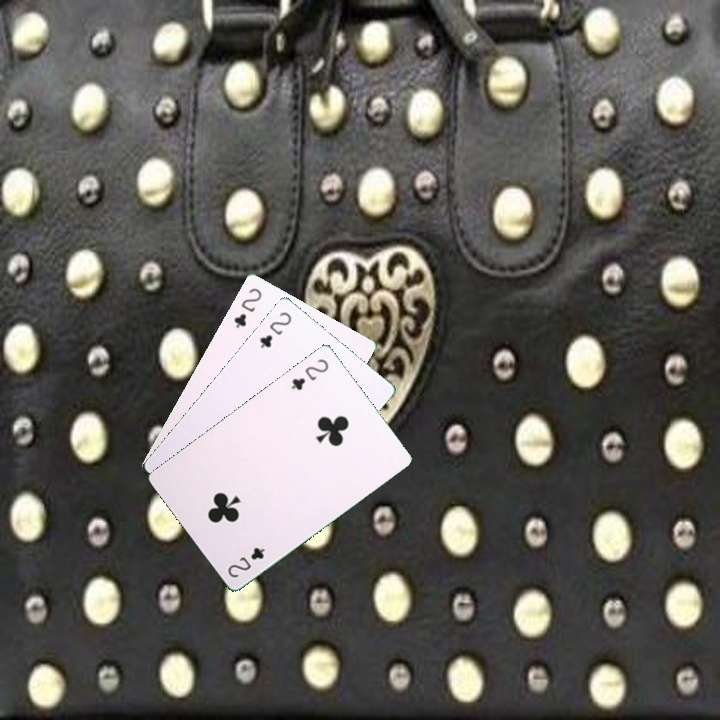2c: (287, 354, 331, 393), (223, 543, 268, 580), (230, 284, 265, 331), (256, 308, 294, 351)
